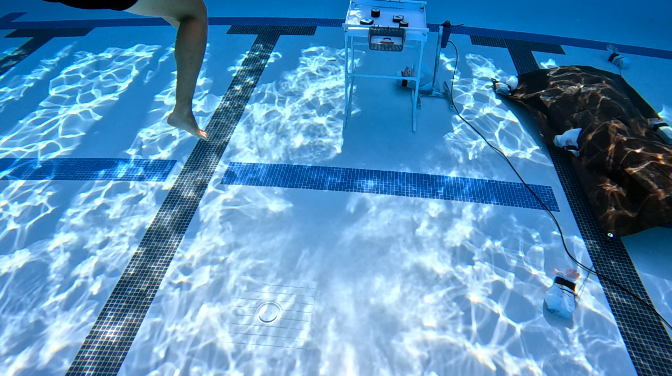sandbag: (491, 59, 671, 238)
